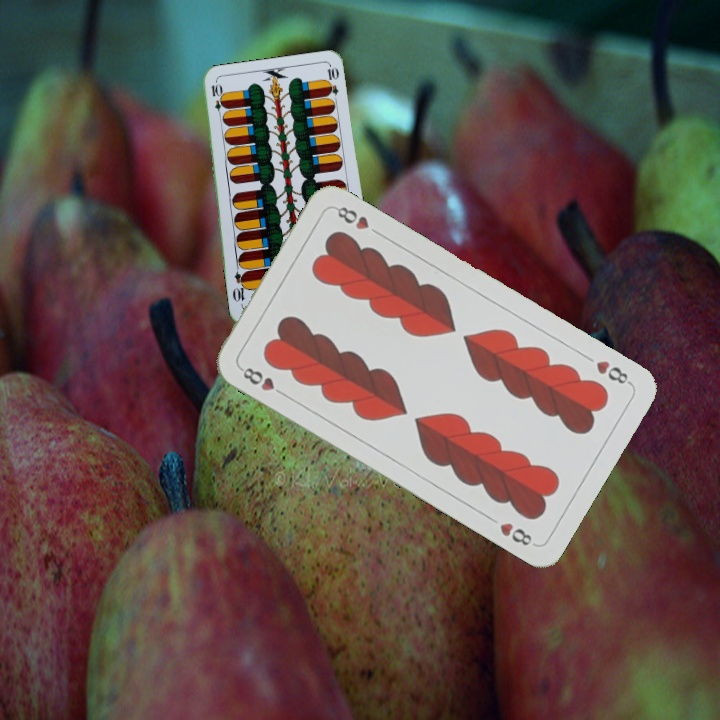E10: (207, 80, 225, 121)
H8: (236, 363, 289, 399), (592, 356, 634, 388)
